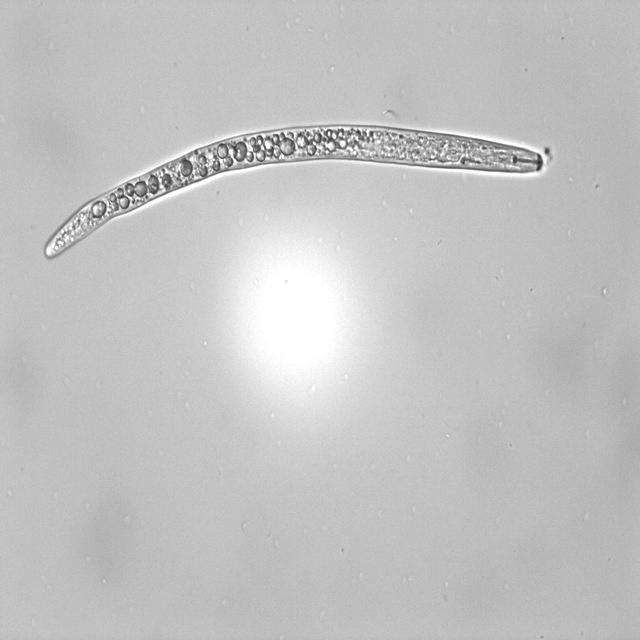Pratylenchus: (40, 113, 555, 264)
